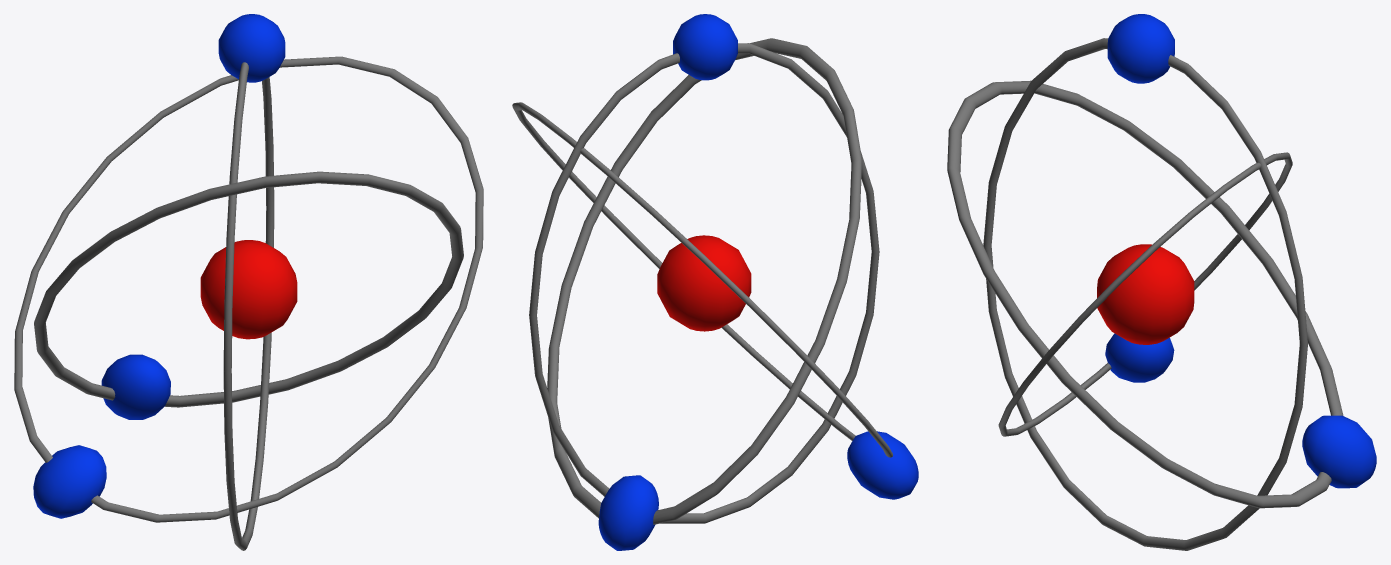
Rendered from Atom.fbx.
3 renders of one model, left to right at view 1: azimuth 30°, elevation 25°; view 2: azimuth 150°, elevation 25°; view 3: azimuth 270°, elevation 25°, orthographic. The views are drawn at different scales.
Visible parts, largest first — view 1: Torus.001, Torus, Torus.002, Sphere, Sphere.001, Sphere.002, Sphere.003; view 2: Torus.001, Torus.002, Sphere, Torus, Sphere.003, Sphere.001, Sphere.002; view 3: Torus.001, Torus.002, Sphere, Torus, Sphere.003, Sphere.002, Sphere.001.
Part boxes in pixels (x1,y1,x2,y2): Torus.001: (34,171,463,407); Torus: (14,56,483,522); Torus.002: (223,62,274,550); Sphere: (200,240,297,339); Sphere.001: (33,445,106,518); Sphere.002: (218,14,285,82); Sphere.003: (101,354,170,419); Torus.001: (547,38,862,524); Torus.002: (529,43,879,523); Sphere: (657,235,751,331); Torus: (512,102,892,457); Sphere.003: (598,475,658,550); Sphere.001: (847,431,918,499); Sphere.002: (673,14,737,80); Torus.001: (947,80,1343,508); Torus.002: (983,38,1307,550); Sphere: (1097,244,1194,344); Torus: (998,152,1292,436); Sphere.003: (1302,415,1376,488); Sphere.002: (1107,14,1174,83); Sphere.001: (1105,333,1174,382).
Size of the model in its own units: 975 by 1158 by 851.
